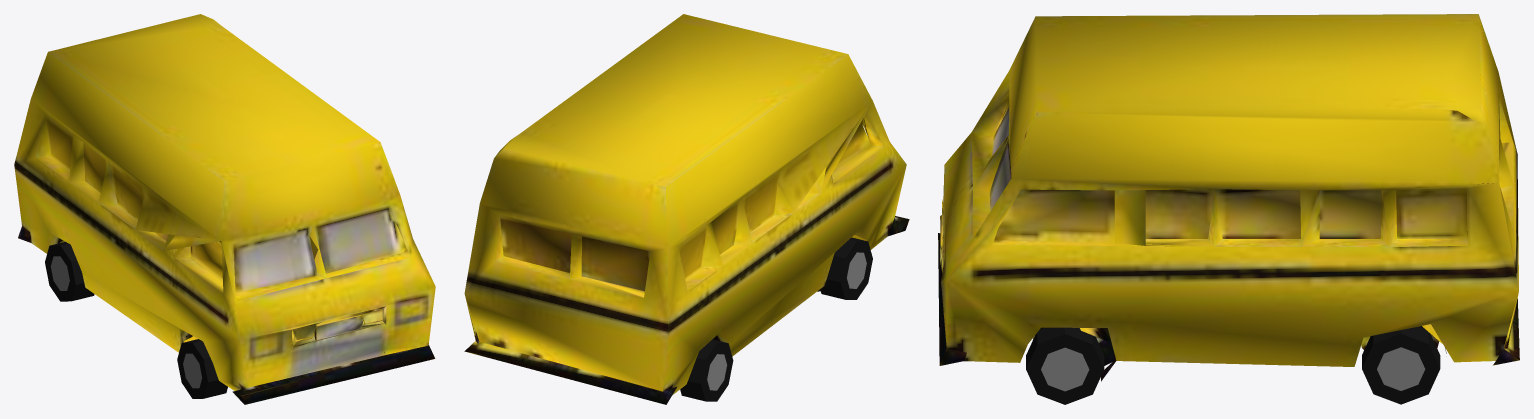
Rendered from danfo-far.glb.
3 views of the same model, side by side, from view 1: azimuth 30°, elevation 25°; view 2: azimuth 150°, elevation 25°; view 3: azimuth 270°, elevation 25° (orthographic). The views are drawn at different scales.
Parts seen in each view (by area): view 1: danfo-far; view 2: danfo-far; view 3: danfo-far.
Part boxes in pixels (bbox=[...]): danfo-far: bbox=[14, 14, 435, 404]; danfo-far: bbox=[464, 14, 909, 404]; danfo-far: bbox=[938, 14, 1519, 404].
Bounding box in the file's own units: 2.42 × 2.64 × 4.92.
Materials: 1 (1 with a texture image).
